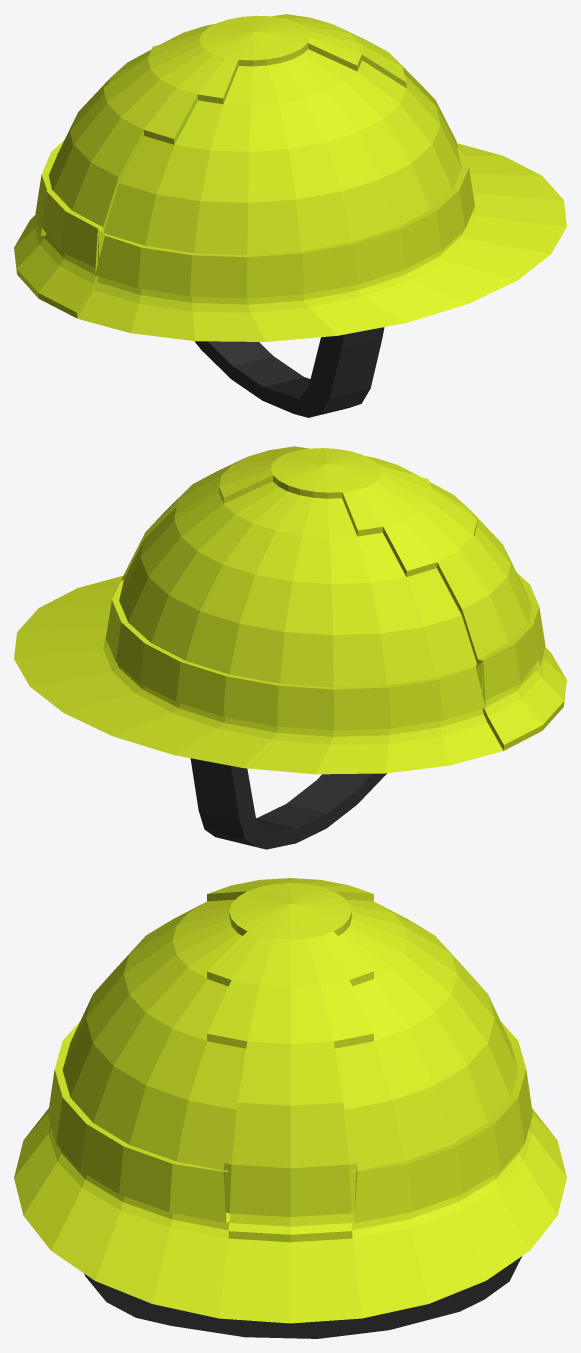
The model's file is hard-hat-google_9AMKar2NlkX-1m.glb.
The picture shows the model from 3 angles, top to bottom: view 1: azimuth 30°, elevation 25°; view 2: azimuth 150°, elevation 25°; view 3: azimuth 270°, elevation 25°; orthographic projection. The views are drawn at different scales.
Parts seen in each view (by area): view 1: Sphere001, Box001; view 2: Sphere001, Box001; view 3: Sphere001, Box001.
Part boxes in pixels (left/top/right/bottom): Sphere001: left=14, top=14, right=566, bottom=341; Box001: left=194, top=327, right=384, bottom=417; Sphere001: left=14, top=446, right=566, bottom=774; Box001: left=190, top=758, right=386, bottom=849; Sphere001: left=14, top=878, right=566, bottom=1323; Box001: left=84, top=1256, right=522, bottom=1338.
Size of the model in its own units: 0.3 by 0.2008 by 0.2407.
